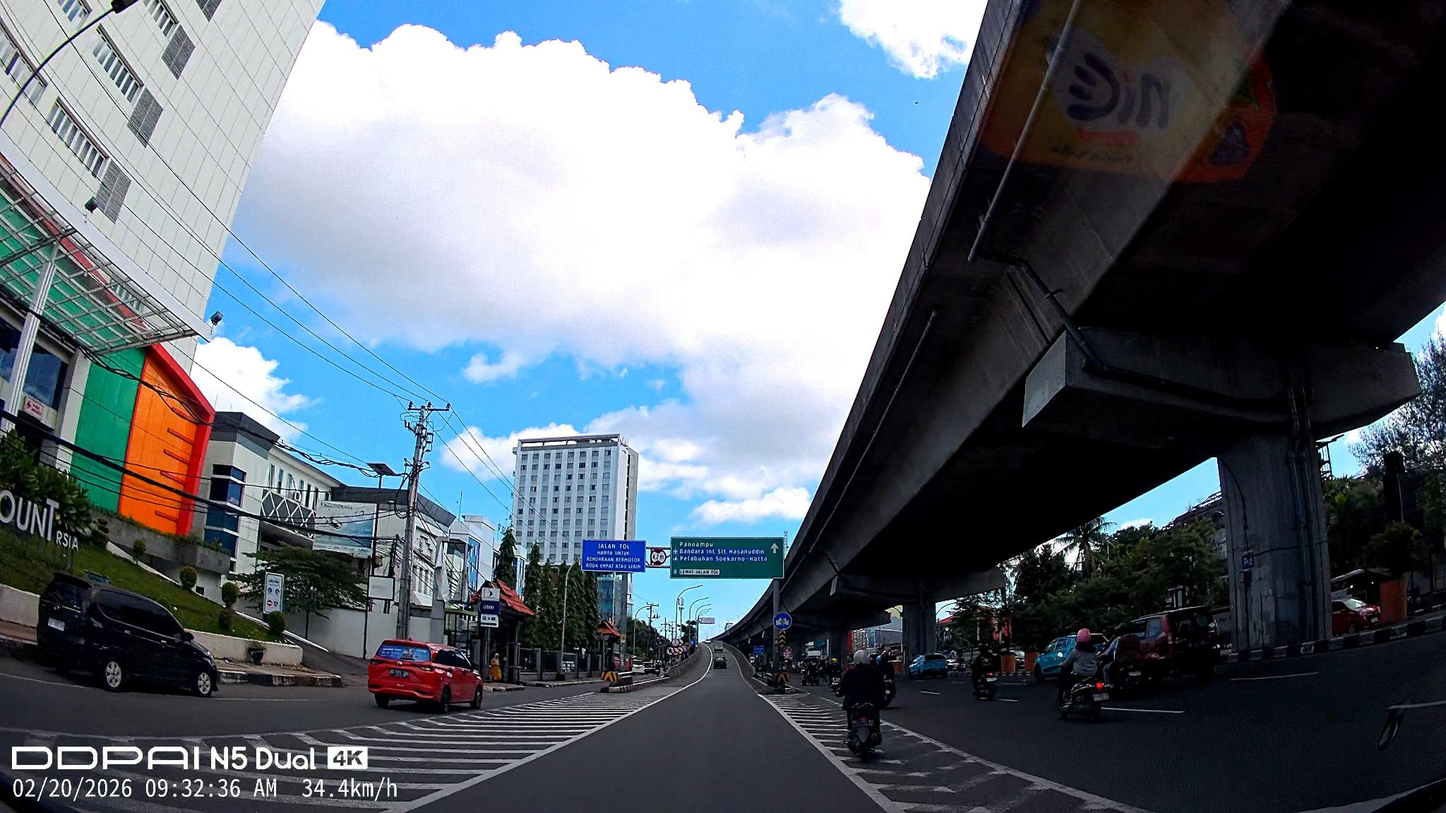rambu_teks: (671, 537, 784, 578), (582, 539, 646, 572)
